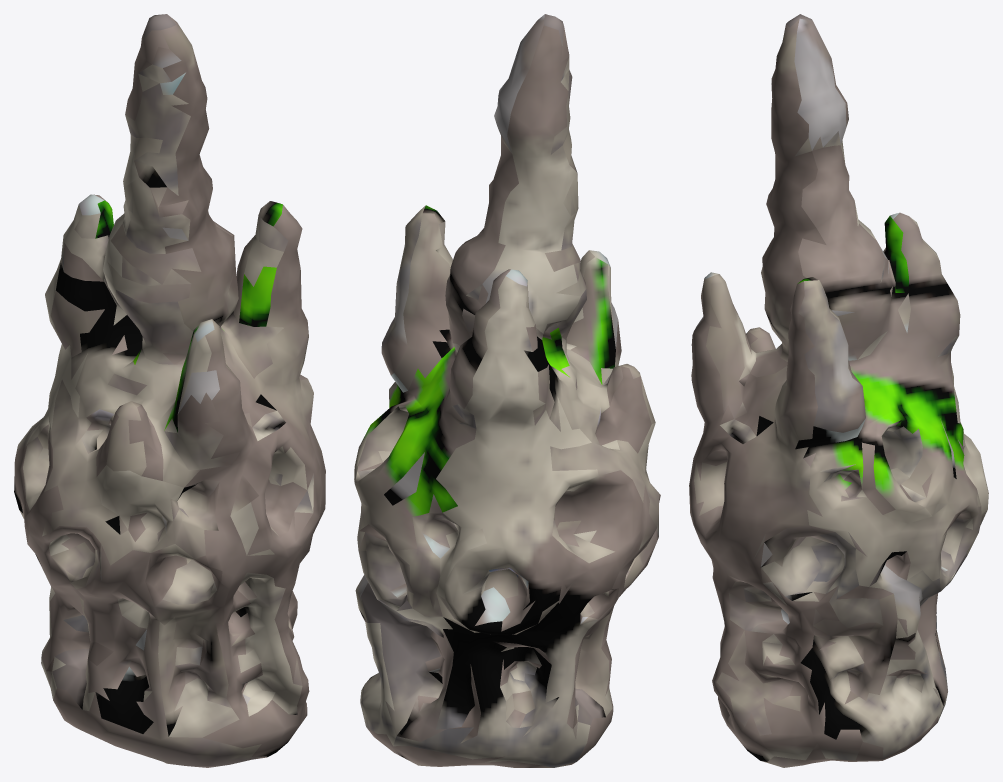
Rendered from Structure-3.fbx.
3 renders of one model, left to right at view 1: azimuth 30°, elevation 25°; view 2: azimuth 150°, elevation 25°; view 3: azimuth 270°, elevation 25°, orthographic. The views are drawn at different scales.
Visible parts, largest first — view 1: Structure-3; view 2: Structure-3; view 3: Structure-3.
Part boxes in pixels (bbox=[...]): Structure-3: bbox=[14, 14, 325, 767]; Structure-3: bbox=[354, 14, 660, 767]; Structure-3: bbox=[689, 14, 988, 767].
Size of the model in its own units: 3.63 by 9.74 by 3.77.
